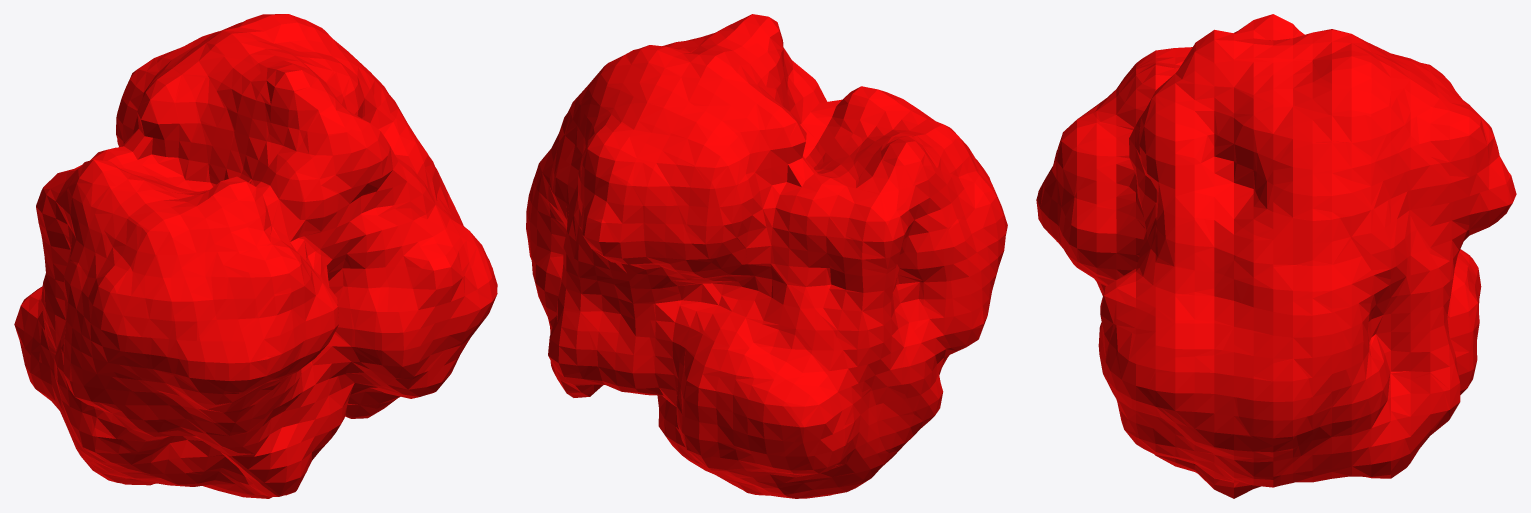
The model's file is yecD_coarse.dae.
The picture shows the model from 3 angles, left to right: view 1: azimuth 30°, elevation 25°; view 2: azimuth 150°, elevation 25°; view 3: azimuth 270°, elevation 25°; orthographic projection. The views are drawn at different scales.
Parts seen in each view (by area): view 1: yecD; view 2: yecD; view 3: yecD.
Part boxes in pixels (bbox=[...]): yecD: bbox=[14, 14, 497, 498]; yecD: bbox=[526, 14, 1007, 498]; yecD: bbox=[1036, 14, 1516, 498].
Size of the model in its own units: 75.07 by 72.58 by 67.23.
